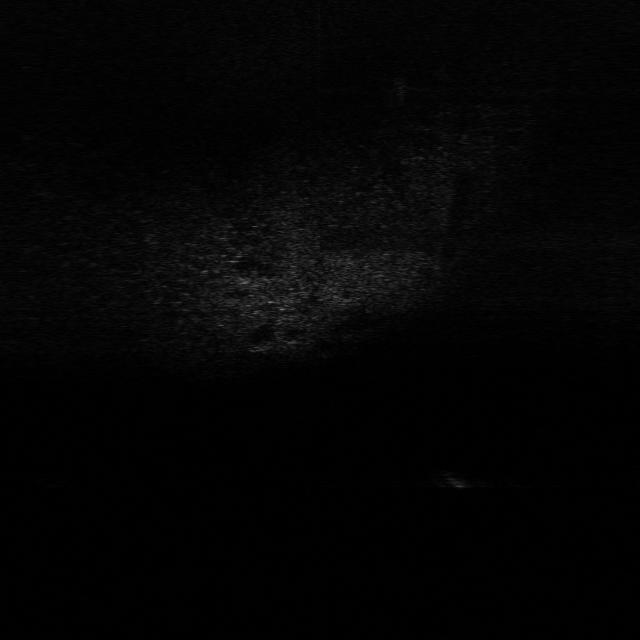cylinder: (438, 467, 473, 493)
